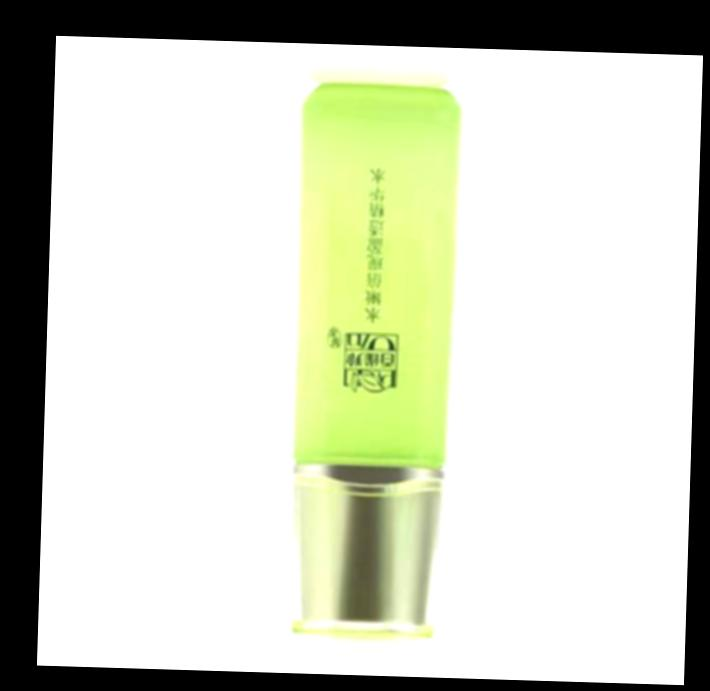cosmetic: (282, 96, 456, 643)
